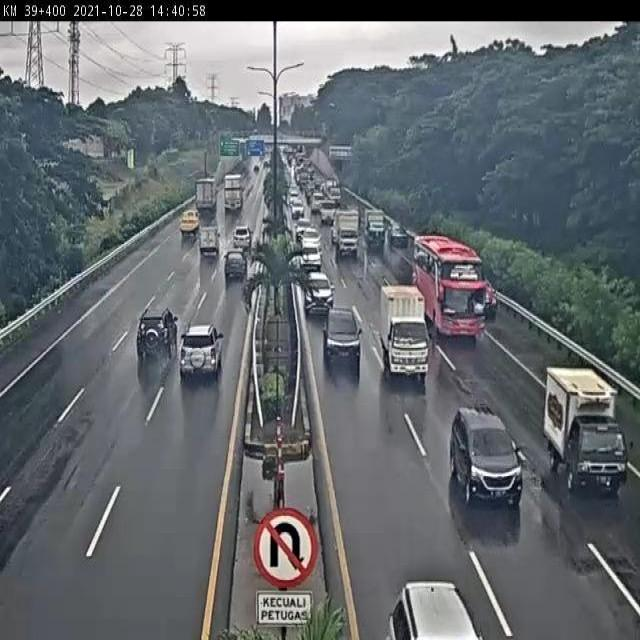bus-l-: (413, 235, 486, 340)
car: (449, 407, 525, 505), (178, 323, 223, 380), (136, 305, 180, 359), (322, 306, 363, 362), (303, 271, 334, 316), (222, 246, 249, 282)
truck-m-: (378, 285, 430, 384)
truck-s-: (543, 365, 628, 492)
